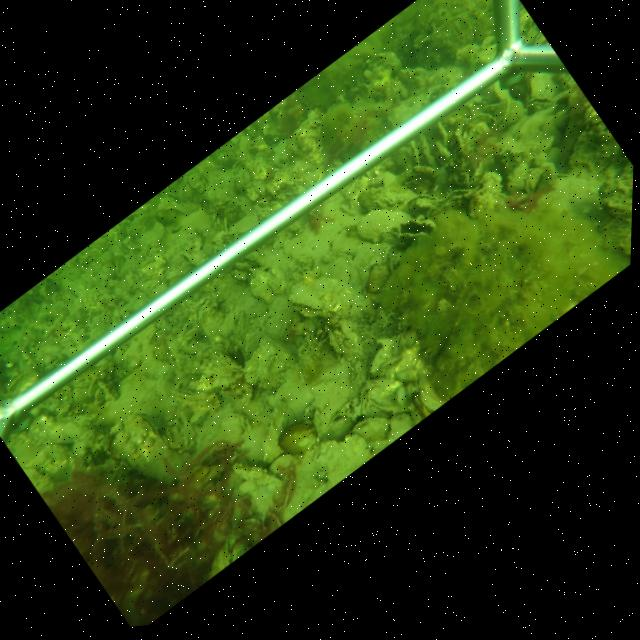Oyster-Closed: (110, 412, 187, 484), (232, 460, 287, 520), (243, 334, 293, 389), (288, 277, 354, 317), (355, 206, 414, 241), (258, 405, 285, 463), (194, 295, 224, 340), (169, 387, 222, 410), (349, 414, 390, 443), (401, 165, 438, 185), (506, 162, 528, 191), (525, 166, 544, 194), (98, 379, 119, 400), (391, 332, 406, 357), (181, 250, 196, 266)
Oyster-Indeterminate: (418, 377, 442, 412)
Oyster-Open: (390, 217, 440, 243), (529, 96, 552, 109)
